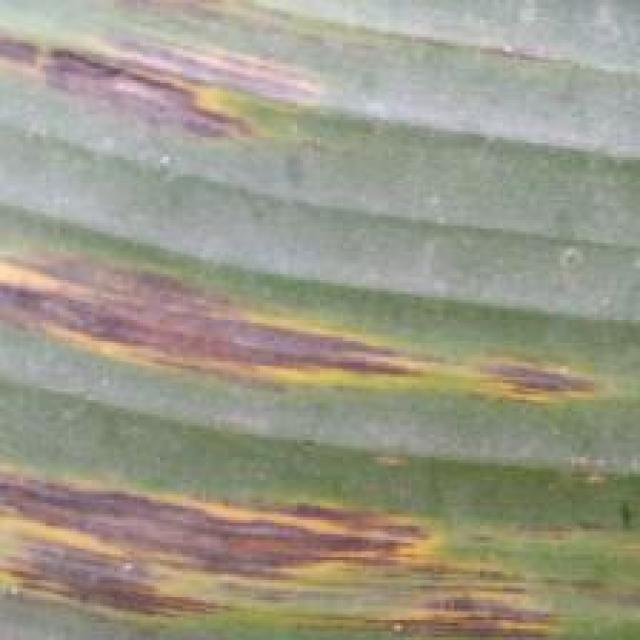Early_leaf_spot: (0, 192, 612, 431), (0, 442, 640, 640), (0, 1, 317, 183)
